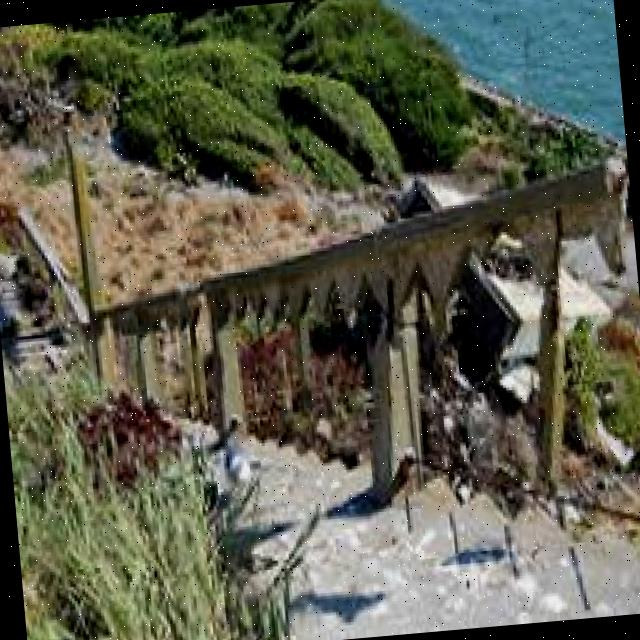stairs: (5, 337, 640, 640)
